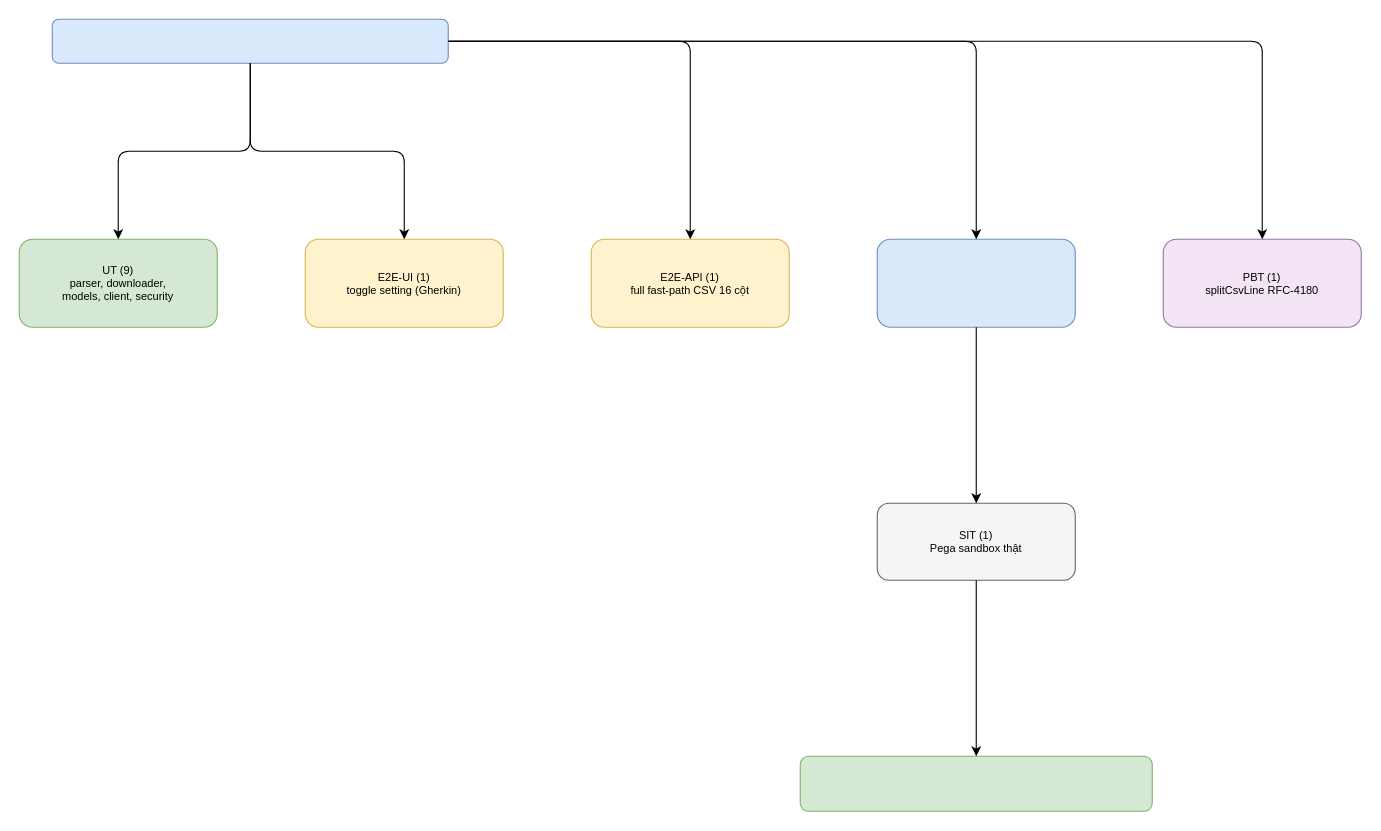
Image size: 1381x831. Some labels were removed from this diagram. The centre of each missing label's shape, as x and y in pixels:
IT (6) client↔mock server, downloader ZIP thật, fallback paths: pixel 975 282
RTM Coverage: 100% AC + key BR + SD-01: pixel 975 783
Test Coverage — SA4E-240 (19 test cases): pixel 249 40
